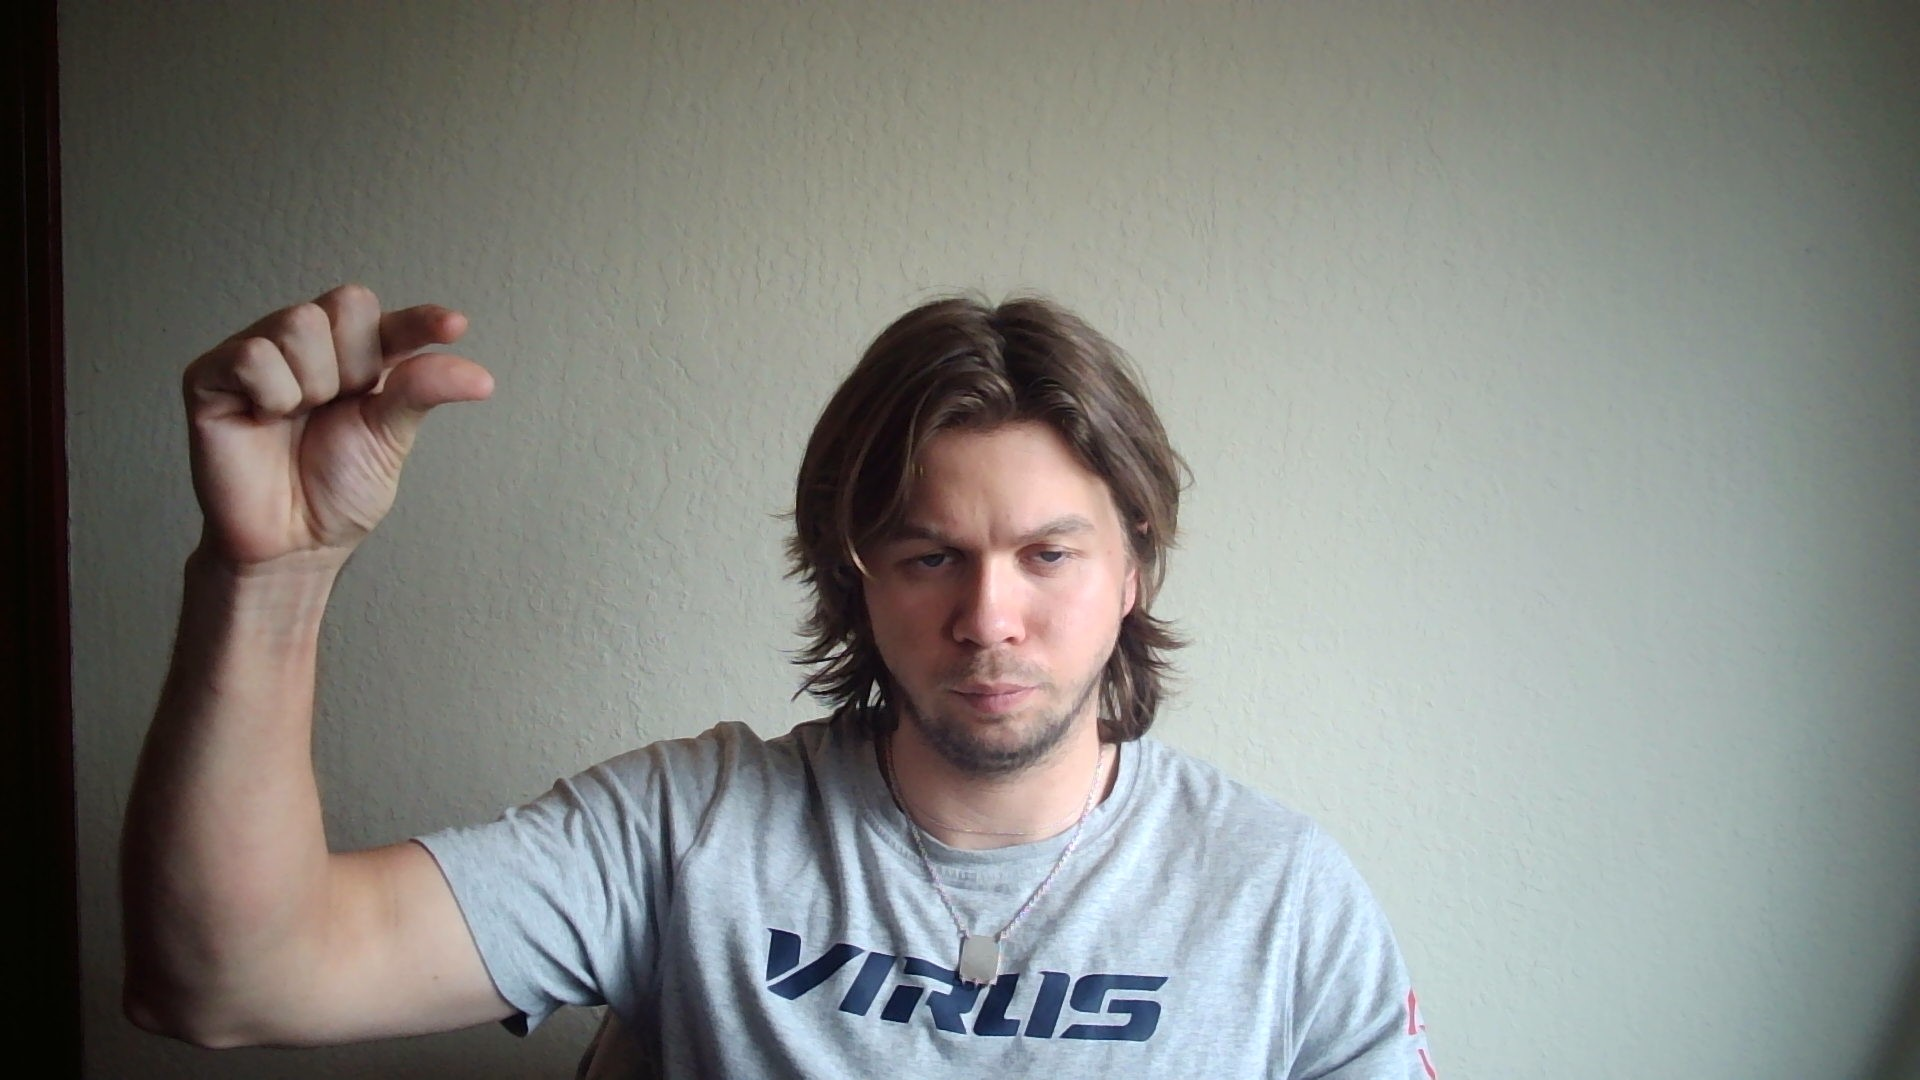small: (181, 284, 495, 556)
